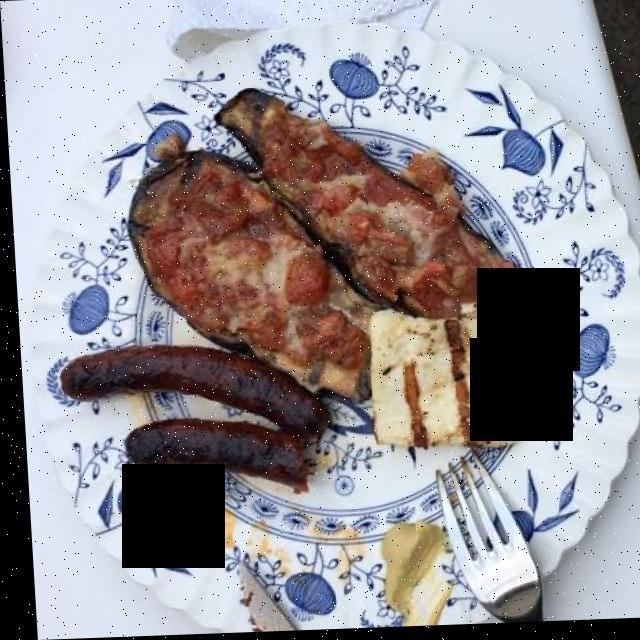cheese: (175, 129, 492, 354)
eggplant: (120, 63, 503, 410)
halloumi: (356, 305, 524, 477)
mustard: (355, 519, 443, 612)
tomato-sauce: (157, 124, 502, 385)
